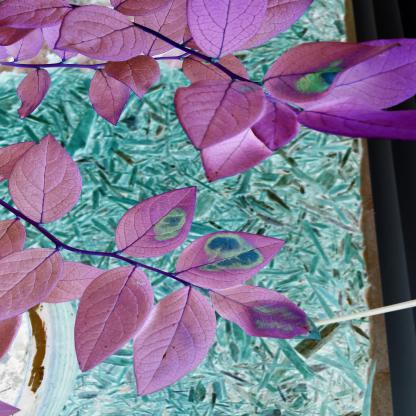blueberry leaf: (128, 280, 222, 405), (75, 258, 153, 392), (176, 66, 270, 161), (48, 4, 150, 68), (296, 96, 416, 149), (84, 55, 169, 127), (11, 125, 72, 225), (0, 241, 73, 324), (193, 0, 264, 68), (14, 61, 51, 123)
